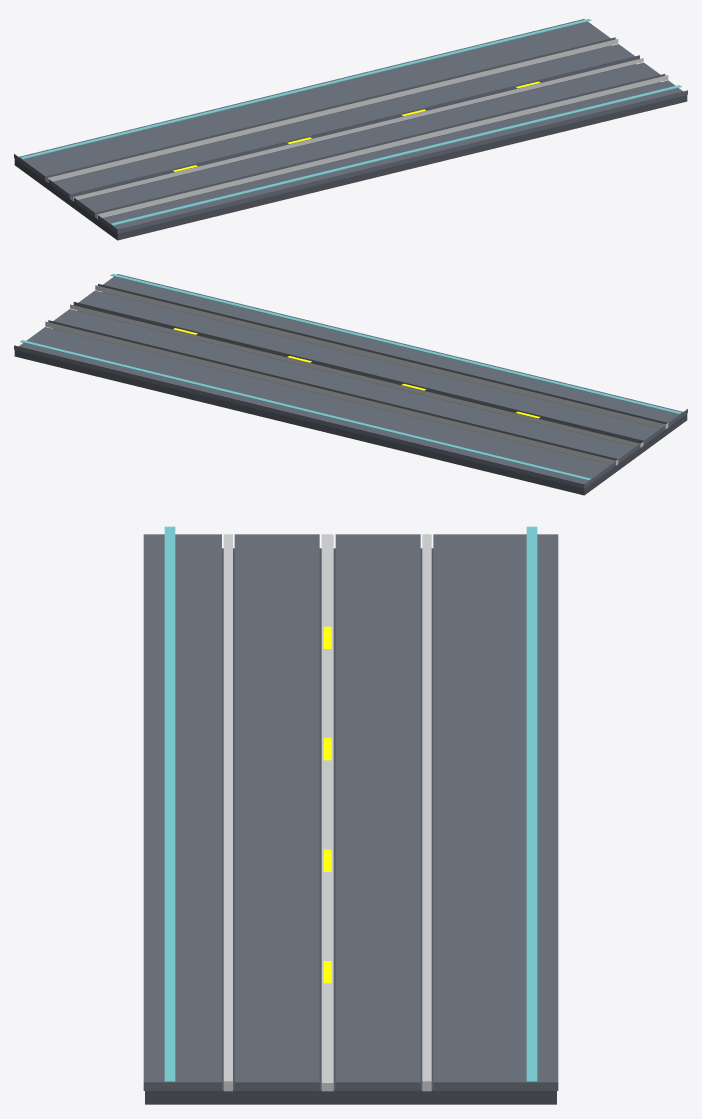
The model's file is ext_tram_rail_module_05_trim.glb.
3 views of the same model, one above another, from view 1: azimuth 30°, elevation 25°; view 2: azimuth 150°, elevation 25°; view 3: azimuth 270°, elevation 25° (orthographic). The views are drawn at different scales.
Parts seen in each view (by area): view 1: Deck, Base_Slab, Rails, Side_Lines, Power_Rail; view 2: Deck, Base_Slab, Rails, Side_Lines, Power_Rail; view 3: Deck, Base_Slab, Side_Lines, Rails, Power_Rail.
Boxes of the visible parts, x1,y1,x2,y2 form: Deck: [14, 19, 687, 233]; Base_Slab: [14, 45, 687, 240]; Rails: [45, 39, 668, 219]; Side_Lines: [20, 18, 681, 225]; Power_Rail: [70, 58, 643, 200]; Deck: [14, 274, 687, 488]; Base_Slab: [14, 292, 687, 495]; Rails: [45, 285, 668, 465]; Side_Lines: [20, 273, 681, 480]; Power_Rail: [70, 304, 643, 447]; Deck: [143, 534, 558, 1090]; Base_Slab: [145, 548, 556, 1104]; Side_Lines: [164, 526, 537, 1081]; Rails: [223, 534, 431, 1091]; Power_Rail: [321, 534, 333, 1091].
Size of the model in its own units: 9.99 by 0.2 by 3.15.
